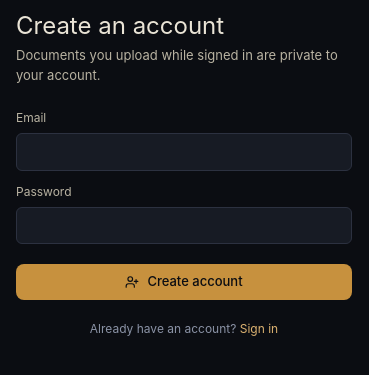
Test: RegisterPage › shows an inline warning and disables submit once a too-short password is typed
Type "alice@example.com" into the field labelled "Email" at (184, 152), box top-left (16, 133), bottom-right (352, 170)
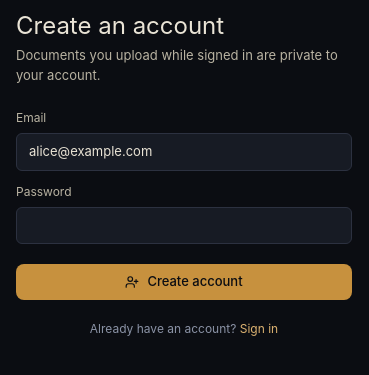
Type "short" into the password field labelled "Password" at (184, 225), box top-left (16, 206), bottom-right (352, 244)
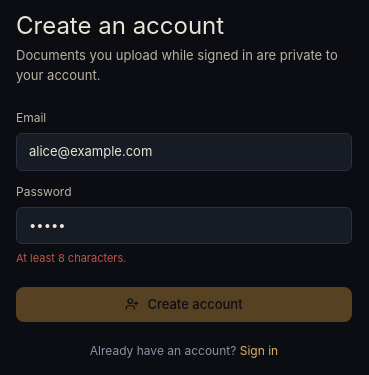
Expected: the text "At least 8 characters." is shown, top-left (16, 251), bottom-right (126, 265)
Expected: the button "Create account" is disabled, top-left (16, 286), bottom-right (352, 322)
